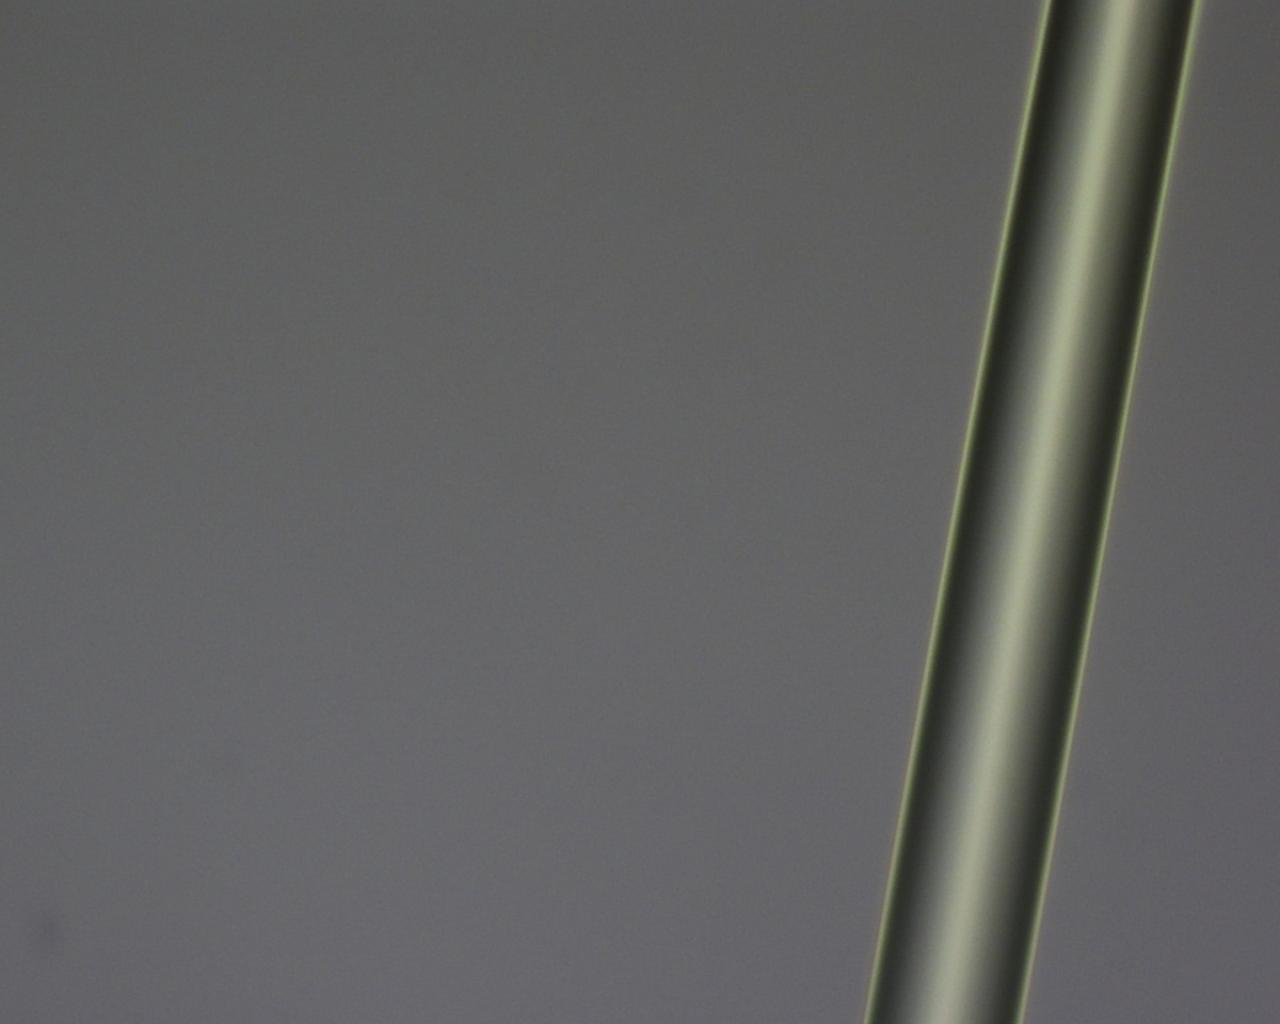fiber: (951, 591, 1280, 763), (1143, 0, 1254, 450), (195, 450, 247, 1024)
